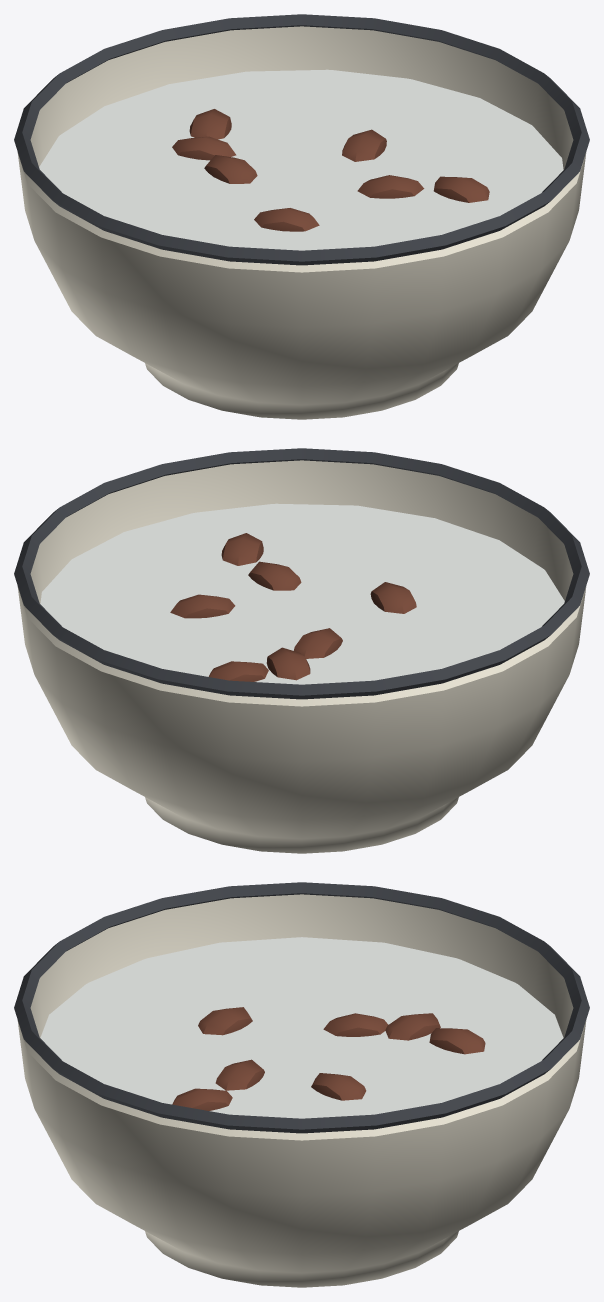
Rendered from cook_soaked_beans.glb.
3 renders of one model, top to bottom at view 1: azimuth 30°, elevation 25°; view 2: azimuth 150°, elevation 25°; view 3: azimuth 270°, elevation 25°, orthographic.
Parts seen in each view (by area): view 1: body; view 2: body; view 3: body.
Boxes of the visible parts, box(x1,y1,x2,y2) form: body: box(14, 14, 589, 419); body: box(14, 448, 589, 853); body: box(14, 882, 589, 1287).
Size of the model in its own units: 0.0628 by 0.0264 by 0.0628.
